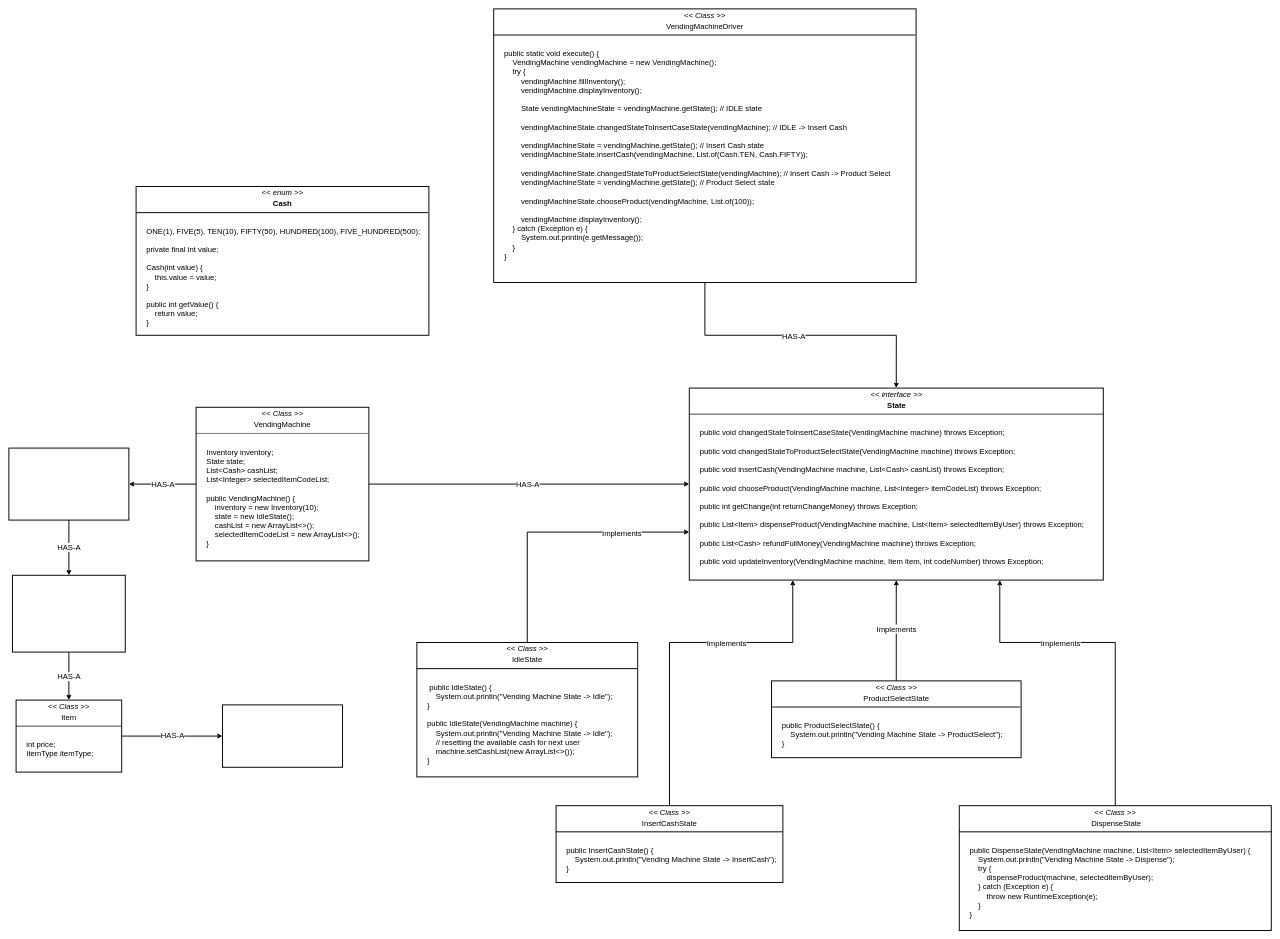
Some shapes in this 1280 by 939 pixel diagram are drawn without their labels. The centre of each missing label's shape, as x and y in pixels:
"<< Class >> Inventory List<ItemShelf> itemShelfList; int inventorySize;" belongs at (68,483).
"<< Class >> ItemShelf int code; Item item; int availableQuantity;" belongs at (69,613).
"<< enum >> ItemType DRINKS, CHIPS, CHOCOLATE" belongs at (282,736).
